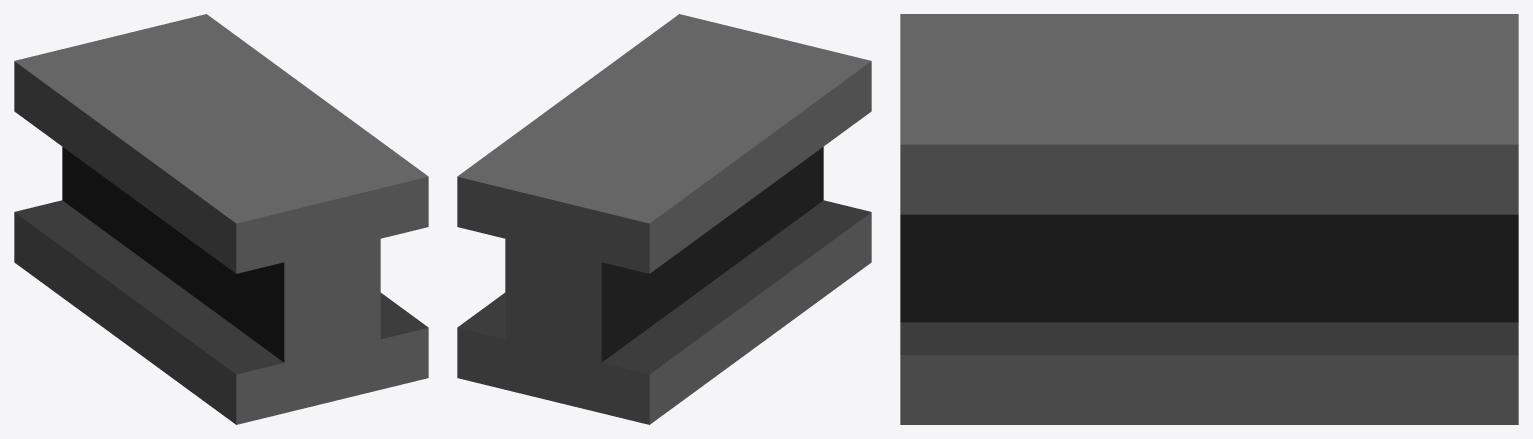
Rendered from iron.fbx.
The picture shows the model from 3 angles, left to right: view 1: azimuth 30°, elevation 25°; view 2: azimuth 150°, elevation 25°; view 3: azimuth 270°, elevation 25°; orthographic projection. The views are drawn at different scales.
Parts seen in each view (by area): view 1: cuboid; view 2: cuboid; view 3: cuboid.
Part boxes in pixels (left/top/right/bottom): cuboid: left=14, top=14, right=428, bottom=424; cuboid: left=457, top=14, right=871, bottom=424; cuboid: left=900, top=14, right=1518, bottom=424.
Size of the model in its own units: 50 by 50 by 100.
Materials: 1 (1 with a texture image).
